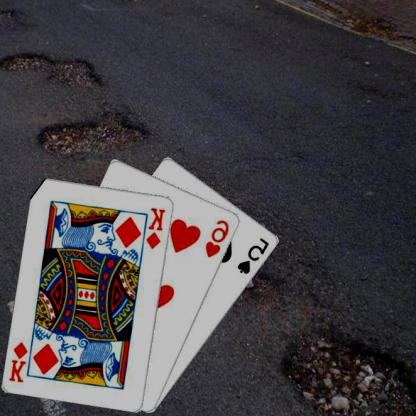5S: (237, 235, 273, 276)
6H: (204, 217, 233, 259)
KD: (145, 204, 169, 250), (9, 340, 31, 384)
